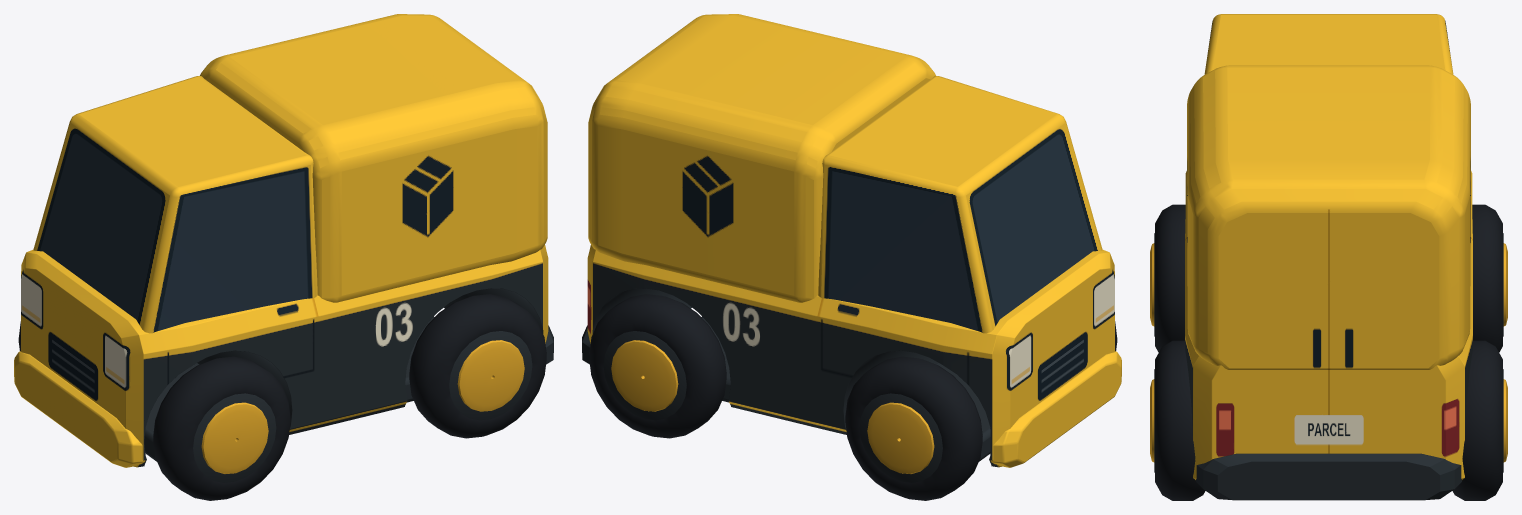
File: M02_master.fbx
3 renders of one model, left to right at view 1: azimuth 30°, elevation 25°; view 2: azimuth 150°, elevation 25°; view 3: azimuth 270°, elevation 25°, orthographic. The views are drawn at different scales.
Parts seen in each view (by area): view 1: BODY_RaisedCargoShell, CABIN_ForwardControl, BODY_ParcelLowerHull, WHEEL_RL_Tire, WHEEL_FL_Tire, FRONT_MODULE_UtilityBumper, WHEEL_RL_PressedCap, WHEEL_FL_PressedCap, WHEEL_RL_UtilityDish, WHEEL_FL_UtilityDish, CHASSIS_UtilitySpine; view 2: BODY_RaisedCargoShell, CABIN_ForwardControl, BODY_ParcelLowerHull, WHEEL_RR_Tire, WHEEL_FR_Tire, FRONT_MODULE_UtilityBumper, WHEEL_RR_PressedCap, WHEEL_FR_PressedCap, WHEEL_RR_UtilityDish, WHEEL_FR_UtilityDish, CHASSIS_UtilitySpine; view 3: BODY_RaisedCargoShell, BODY_ParcelLowerHull, CABIN_ForwardControl, REAR_MODULE_UtilityBumper, WHEEL_RL_Tire, WHEEL_RR_Tire, WHEEL_FL_Tire, WHEEL_FR_Tire, WHEEL_FL_PressedCap, WHEEL_FR_PressedCap, WHEEL_RL_PressedCap, WHEEL_RR_PressedCap.
Part boxes in pixels (<box>): BODY_RaisedCargoShell: <box>200,14,547,302</box>; CABIN_ForwardControl: <box>33,76,317,333</box>; BODY_ParcelLowerHull: <box>21,245,548,467</box>; WHEEL_RL_Tire: <box>409,294,546,438</box>; WHEEL_FL_Tire: <box>153,356,290,500</box>; FRONT_MODULE_UtilityBumper: <box>14,351,145,467</box>; WHEEL_RL_PressedCap: <box>457,340,524,411</box>; WHEEL_FL_PressedCap: <box>201,402,268,473</box>; WHEEL_RL_UtilityDish: <box>449,331,532,420</box>; WHEEL_FL_UtilityDish: <box>193,393,276,482</box>; CHASSIS_UtilitySpine: <box>144,317,434,461</box>; BODY_RaisedCargoShell: <box>588,14,935,302</box>; CABIN_ForwardControl: <box>818,76,1102,333</box>; BODY_ParcelLowerHull: <box>587,245,1114,467</box>; WHEEL_RR_Tire: <box>589,294,726,438</box>; WHEEL_FR_Tire: <box>845,356,982,500</box>; FRONT_MODULE_UtilityBumper: <box>990,351,1121,467</box>; WHEEL_RR_PressedCap: <box>611,340,678,411</box>; WHEEL_FR_PressedCap: <box>867,402,934,473</box>; WHEEL_RR_UtilityDish: <box>603,331,686,420</box>; WHEEL_FR_UtilityDish: <box>859,393,942,482</box>; CHASSIS_UtilitySpine: <box>701,317,990,461</box>; BODY_RaisedCargoShell: <box>1187,65,1470,369</box>; BODY_ParcelLowerHull: <box>1185,171,1472,479</box>; CABIN_ForwardControl: <box>1204,14,1453,74</box>; REAR_MODULE_UtilityBumper: <box>1196,453,1461,500</box>; WHEEL_RL_Tire: <box>1155,340,1205,500</box>; WHEEL_RR_Tire: <box>1452,340,1502,500</box>; WHEEL_FL_Tire: <box>1155,204,1185,352</box>; WHEEL_FR_Tire: <box>1472,204,1502,352</box>; WHEEL_FL_PressedCap: <box>1150,243,1154,326</box>; WHEEL_FR_PressedCap: <box>1503,243,1507,326</box>; WHEEL_RL_PressedCap: <box>1150,379,1154,462</box>; WHEEL_RR_PressedCap: <box>1503,379,1507,462</box>.
Size of the model in its own units: 9.38 by 6.69 by 6.12.
